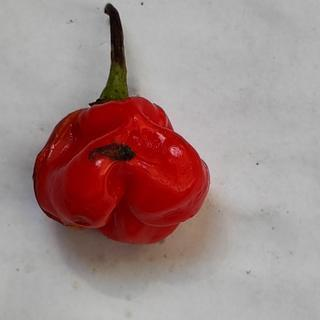Defect: (86, 136, 141, 170)
